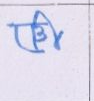i_matra: (37, 10, 61, 46)
